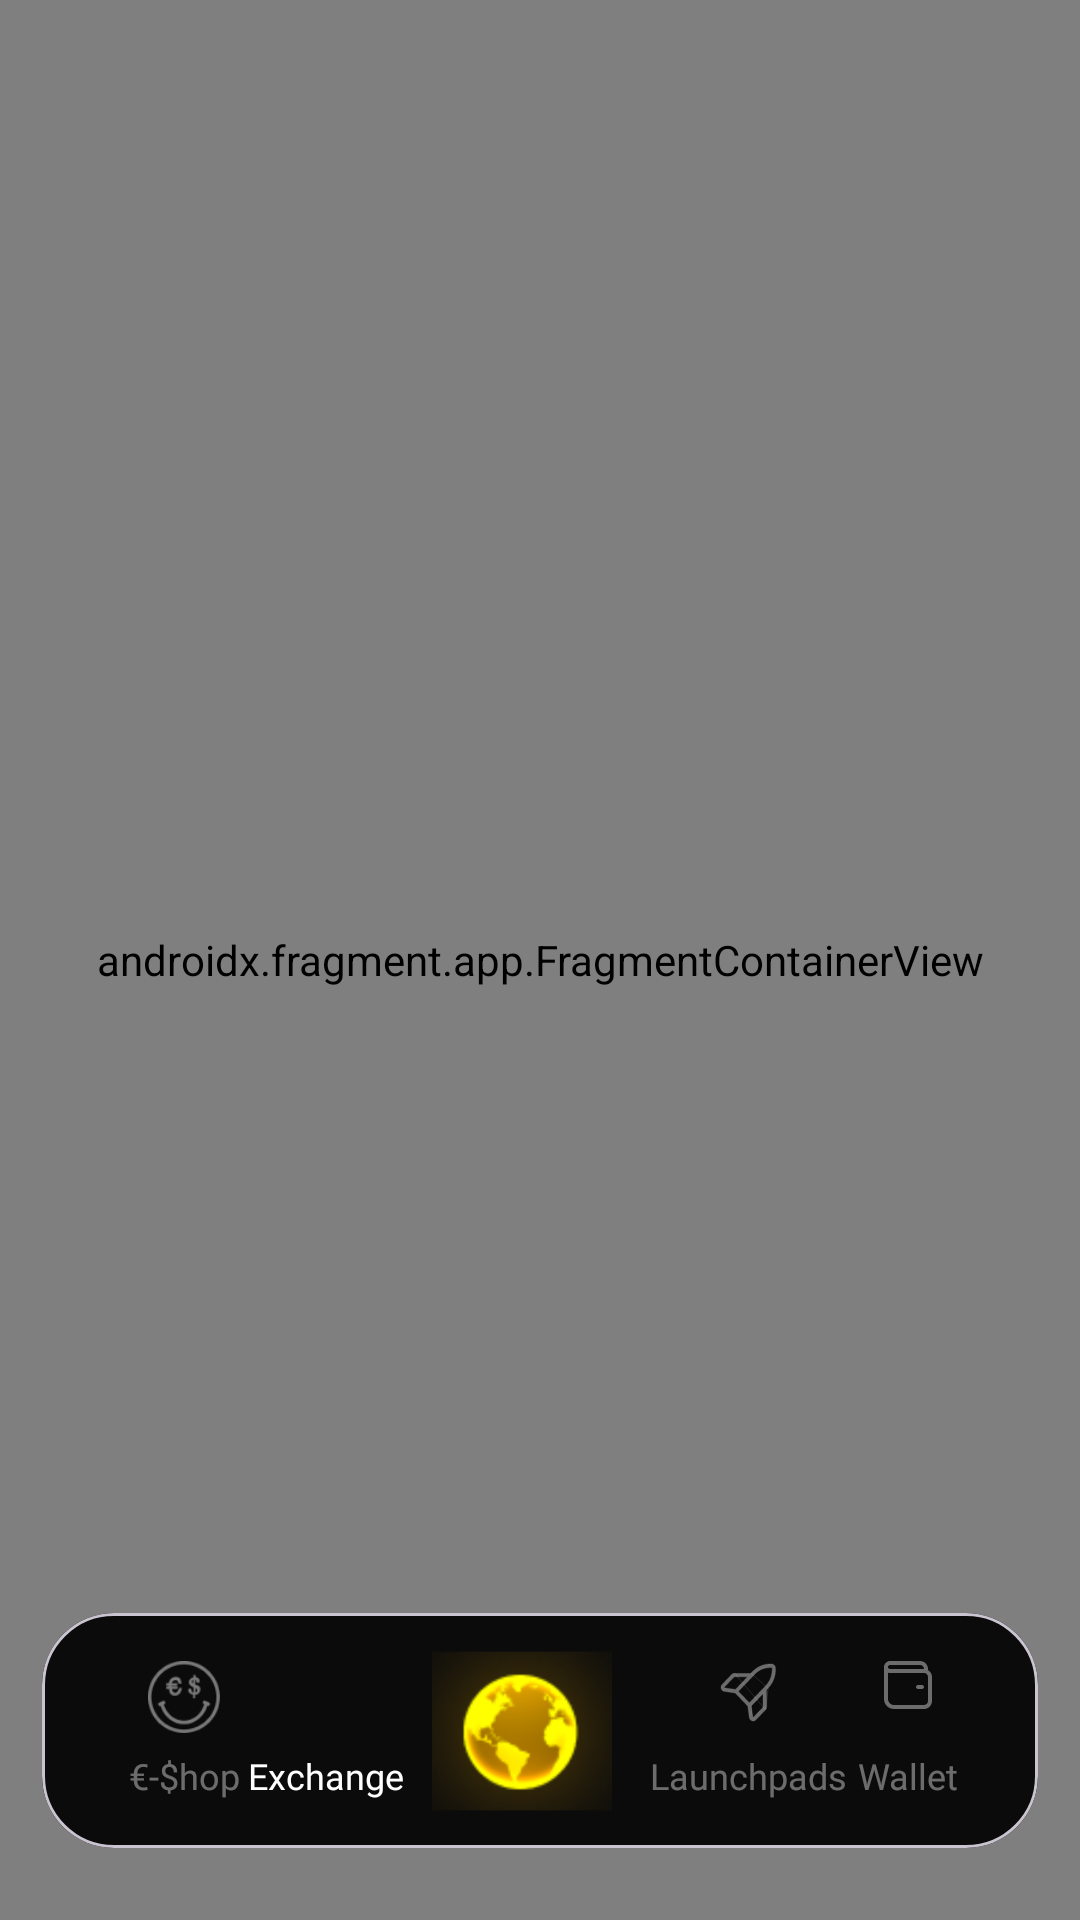

Screen size 1080x1920. Icon name, then its box in pixels as (x1, y1, x2, y2):
earth: (443, 1656, 597, 1808)
